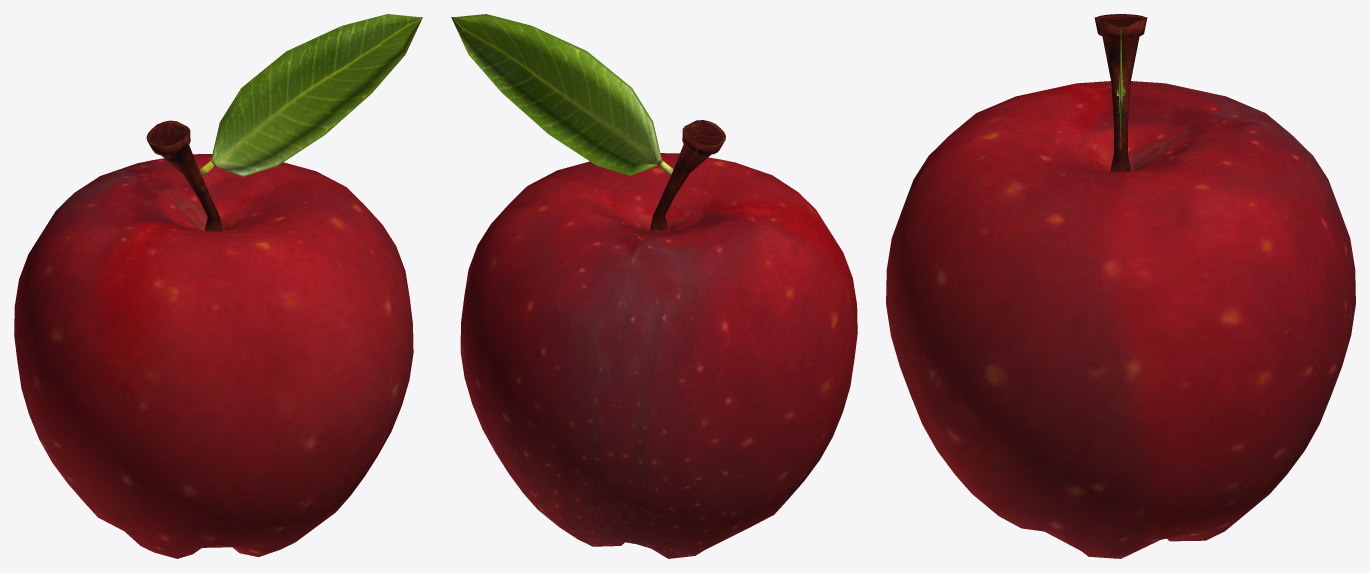
The model's file is Apple.fbx.
3 views of the same model, side by side, from view 1: azimuth 30°, elevation 25°; view 2: azimuth 150°, elevation 25°; view 3: azimuth 270°, elevation 25° (orthographic). The views are drawn at different scales.
Visible parts, largest first — view 1: polySurface1; view 2: polySurface1; view 3: polySurface1.
Boxes of the visible parts, x1,y1,x2,y2 form: polySurface1: [14, 14, 422, 558]; polySurface1: [451, 14, 857, 558]; polySurface1: [886, 14, 1355, 558].
Size of the model in its own units: 6.84 by 8.16 by 6.22.
